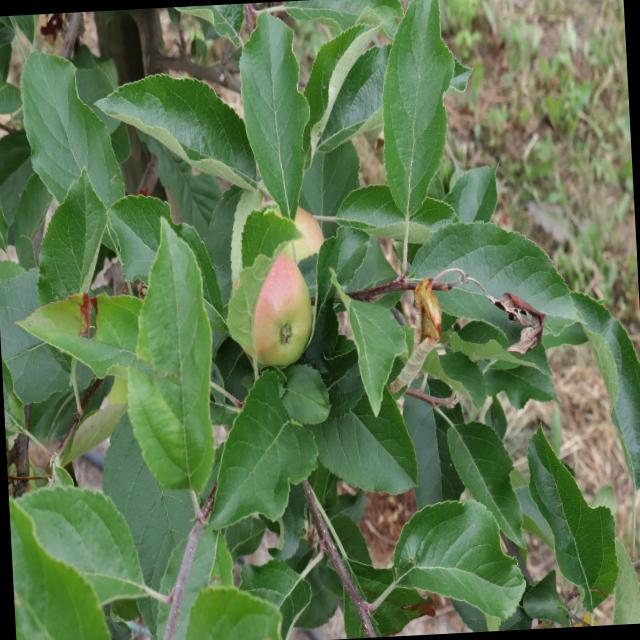-FireBlight-: (488, 278, 557, 361), (406, 276, 456, 382)
